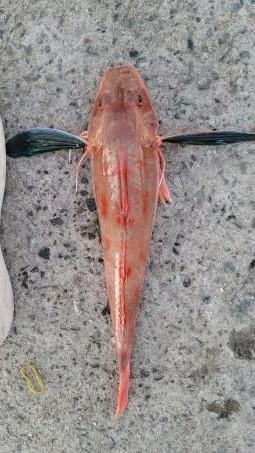fish: (5, 65, 254, 419)
